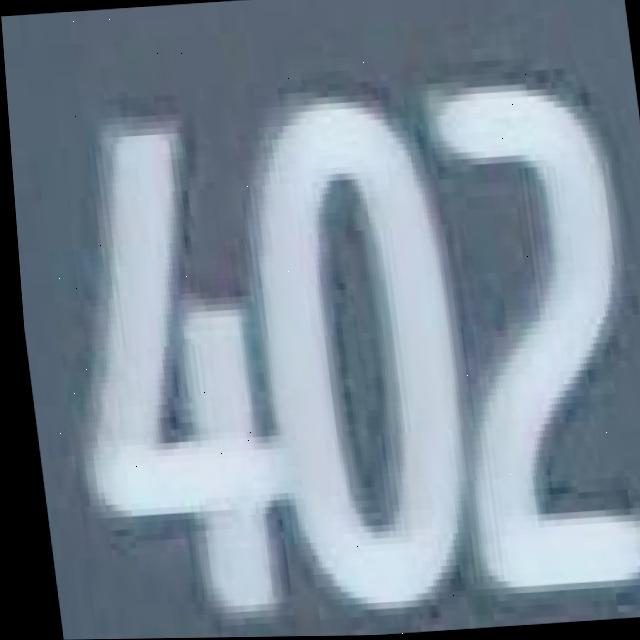character: (233, 87, 492, 626), (39, 102, 300, 628), (425, 76, 640, 610)
